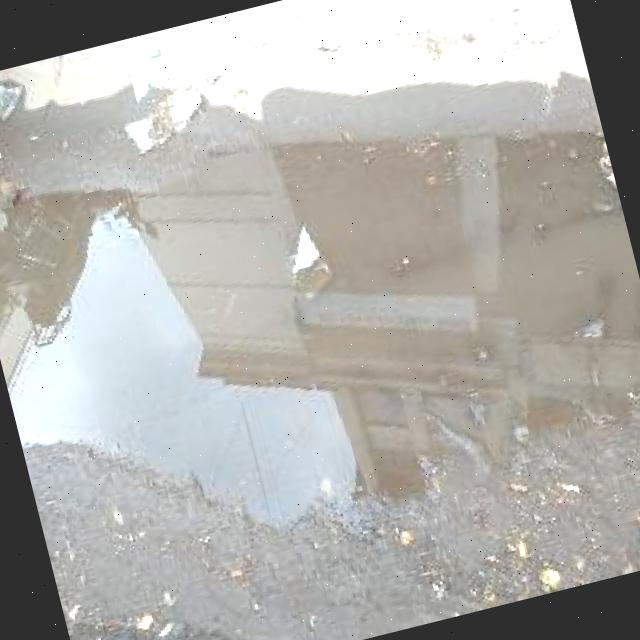stagnation: (0, 54, 640, 555)
